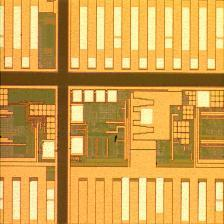PARTICLE: (112, 134, 121, 145)
